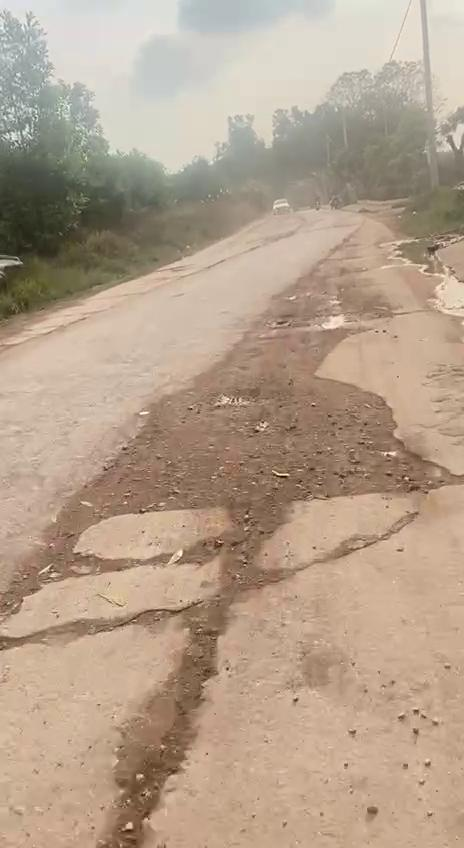pothole: (51, 523, 272, 848)
